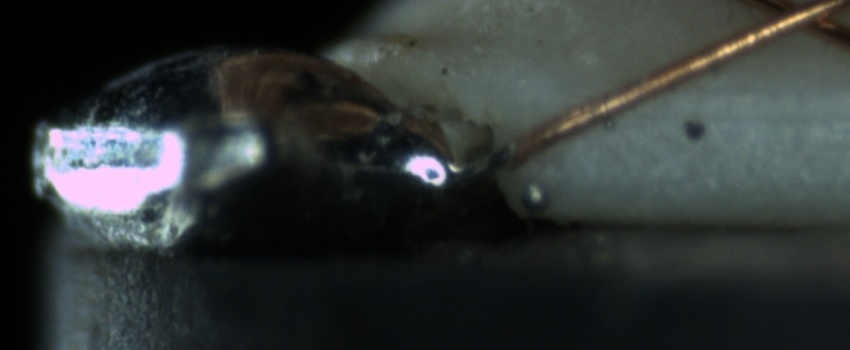CL: (740, 1, 847, 42)
DL: (676, 81, 847, 145)
